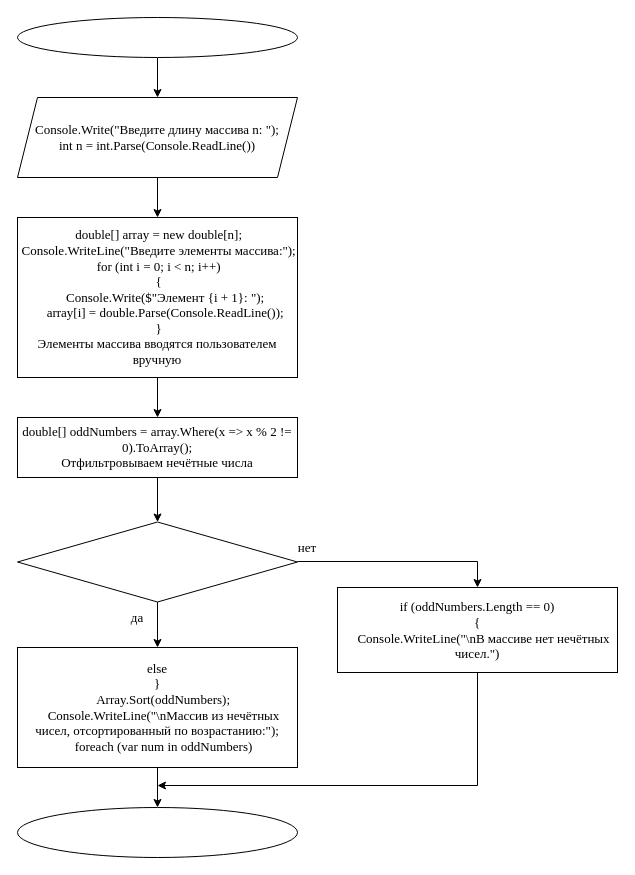
The diagram is 635 pixels wide and 875 high, and some of its shapes have lost their labels. Each missing label, with the box of its shape:
Есть ли нечётные числа?: (16, 521, 298, 602)
Конец: (16, 806, 298, 858)
Начало: (16, 16, 298, 58)
